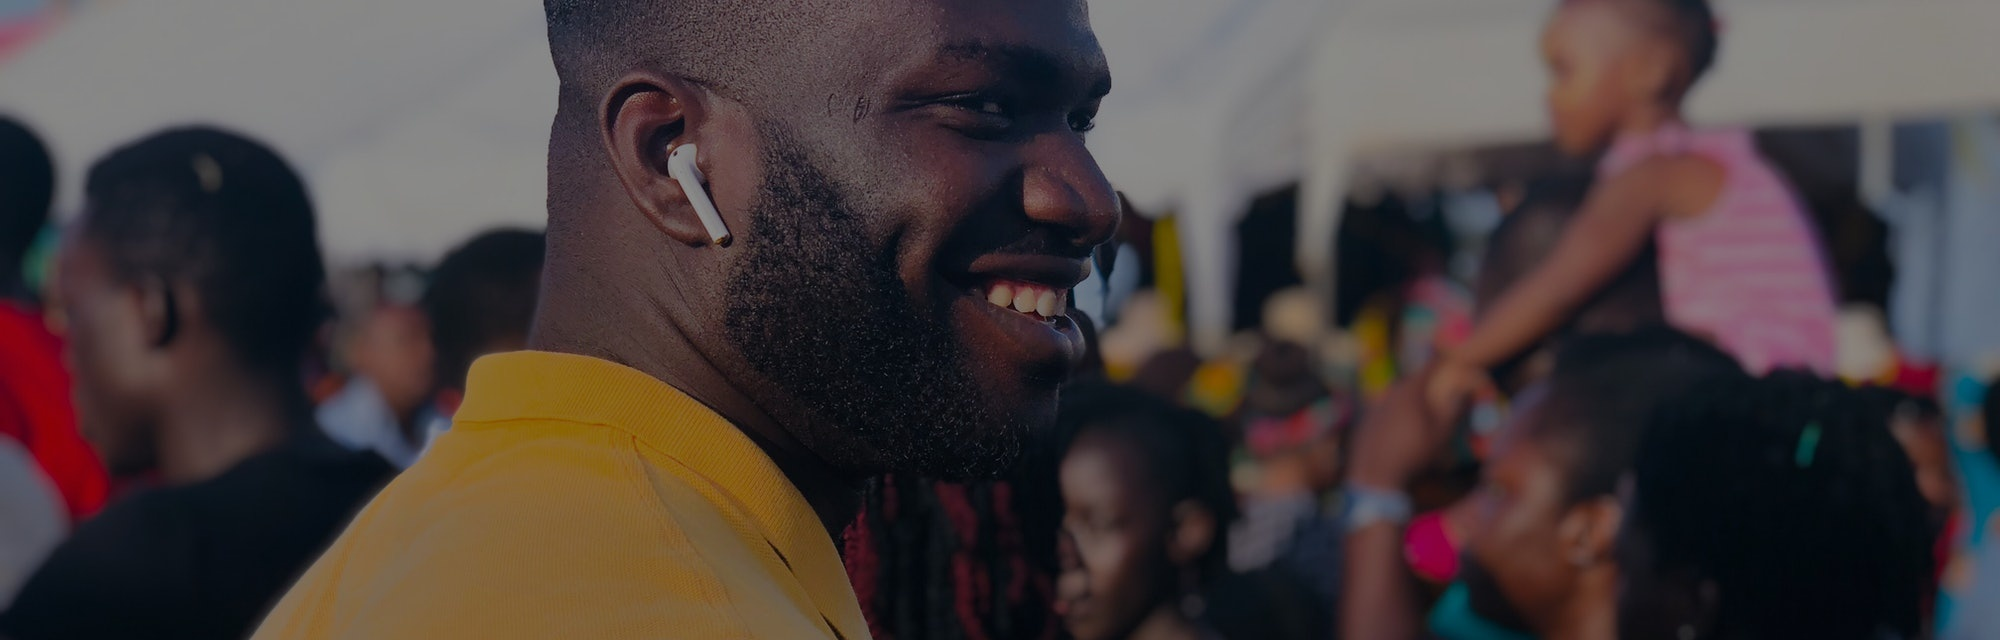earphone: (597, 71, 739, 246)
